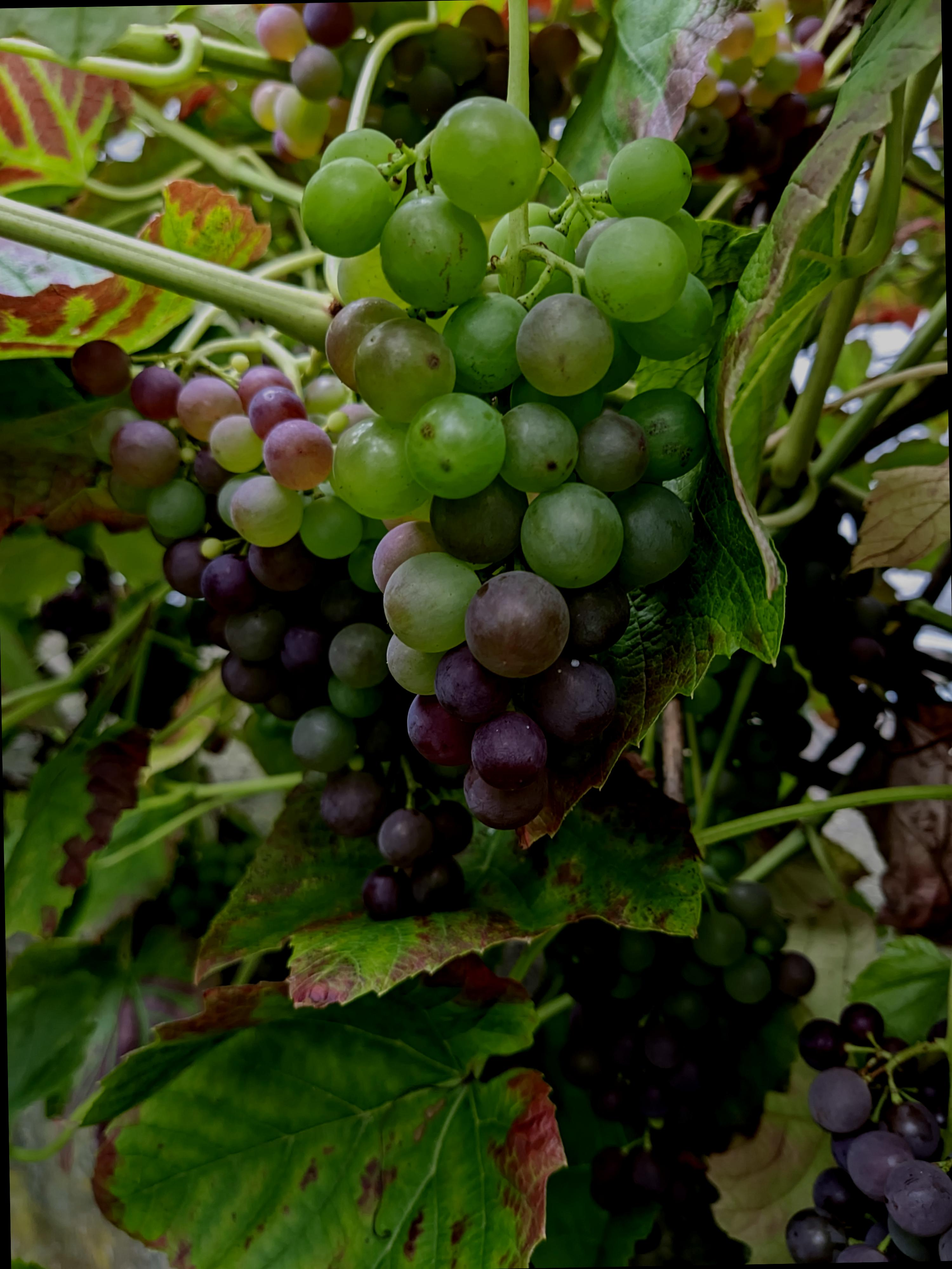Grape Unripe: (286, 90, 705, 850), (61, 338, 469, 933), (527, 875, 812, 1224), (769, 1010, 952, 1269), (666, 2, 818, 187), (761, 507, 890, 697), (674, 649, 806, 824)
